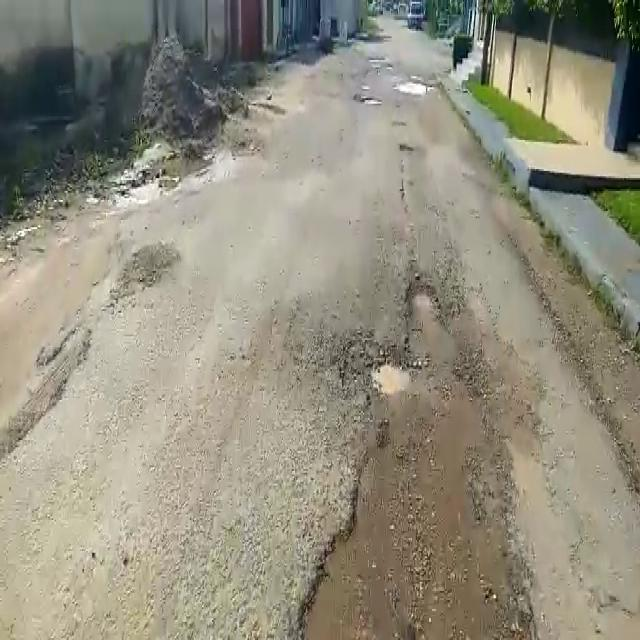pothole: (323, 328, 408, 396), (408, 279, 439, 320), (391, 79, 436, 96)
